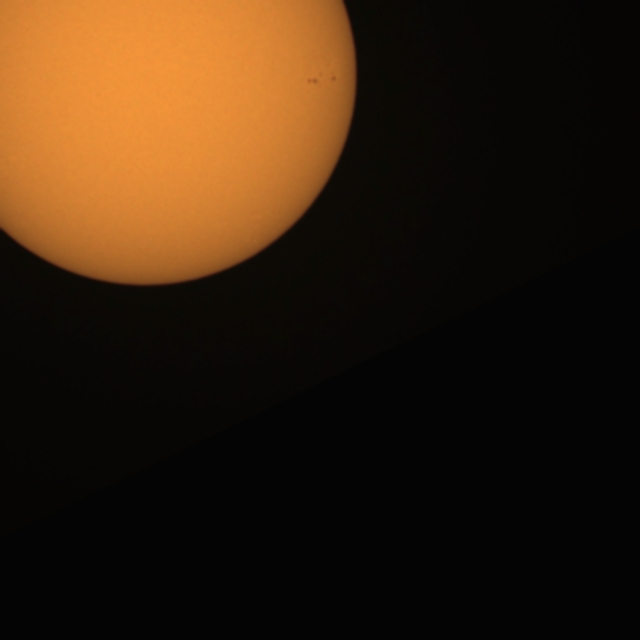sunspot: (305, 70, 337, 87)
